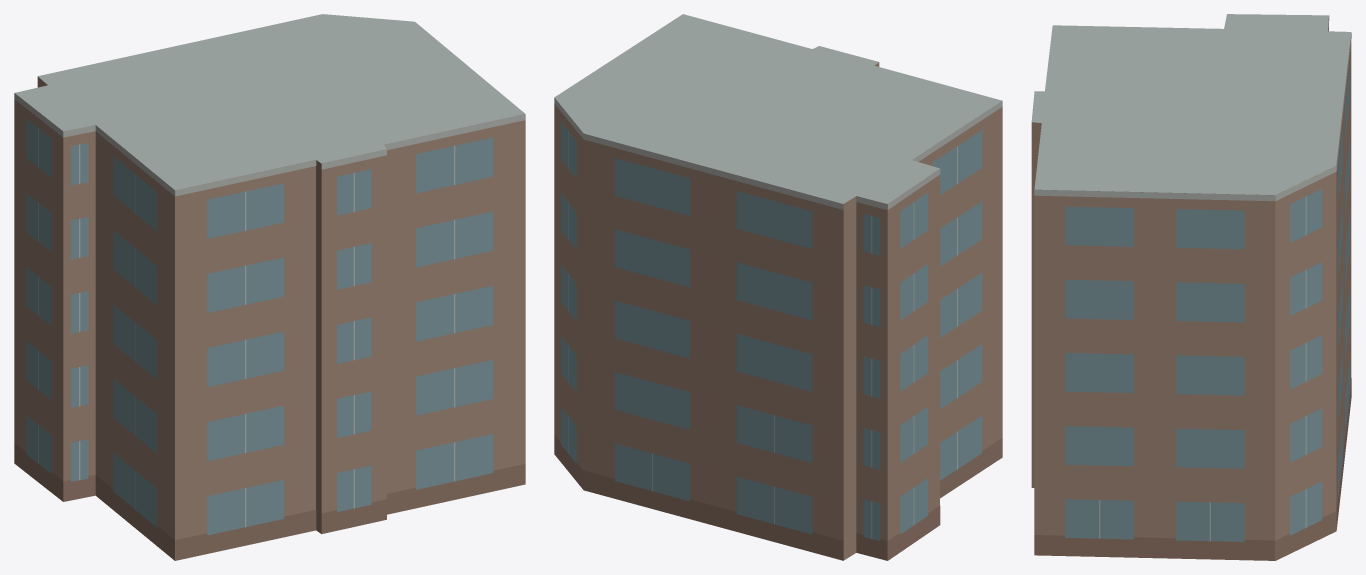
Rendered from survey-upis-32994520.glb.
3 views of the same model, side by side, from view 1: azimuth 30°, elevation 25°; view 2: azimuth 150°, elevation 25°; view 3: azimuth 270°, elevation 25° (orthographic). The views are drawn at different scales.
Visible parts, largest first — view 1: survey-upis-32994520.tmp; view 2: survey-upis-32994520.tmp; view 3: survey-upis-32994520.tmp.
Part boxes in pixels (left/top/right/bottom): survey-upis-32994520.tmp: left=14, top=14, right=525, bottom=560; survey-upis-32994520.tmp: left=554, top=14, right=1002, bottom=560; survey-upis-32994520.tmp: left=1031, top=14, right=1351, bottom=560.
Bounding box in the file's own units: 15.52 × 14.6 × 11.58.
